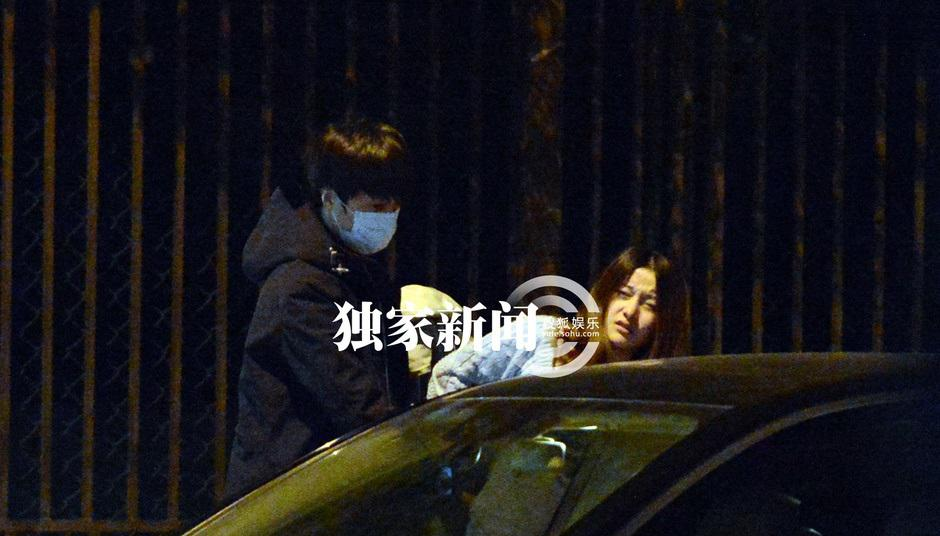NONE: (608, 276, 662, 347)
OK: (339, 182, 408, 251)
